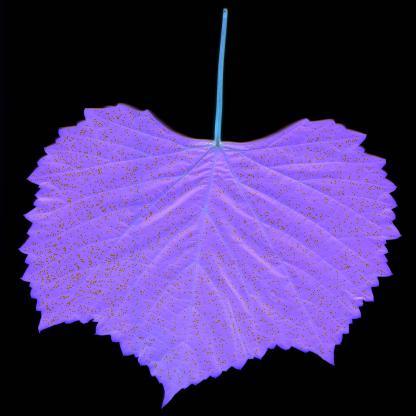grape leaf: (16, 66, 409, 401)
